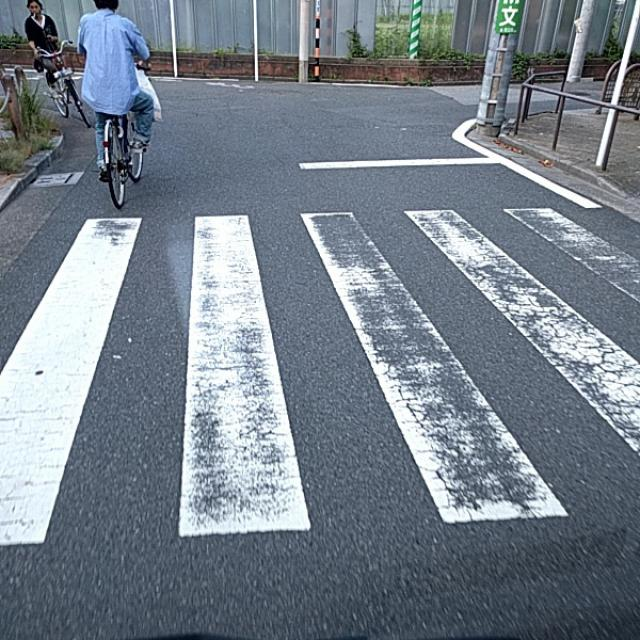pothole: (377, 310, 488, 479)
